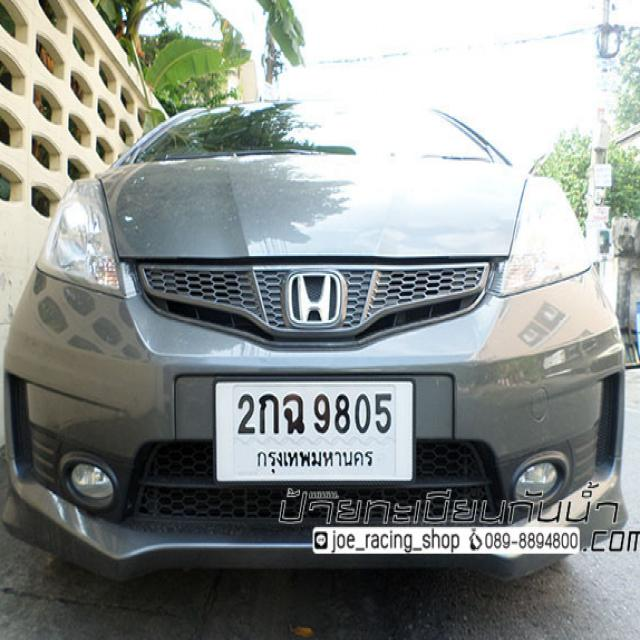license_plate: (212, 376, 416, 486)
